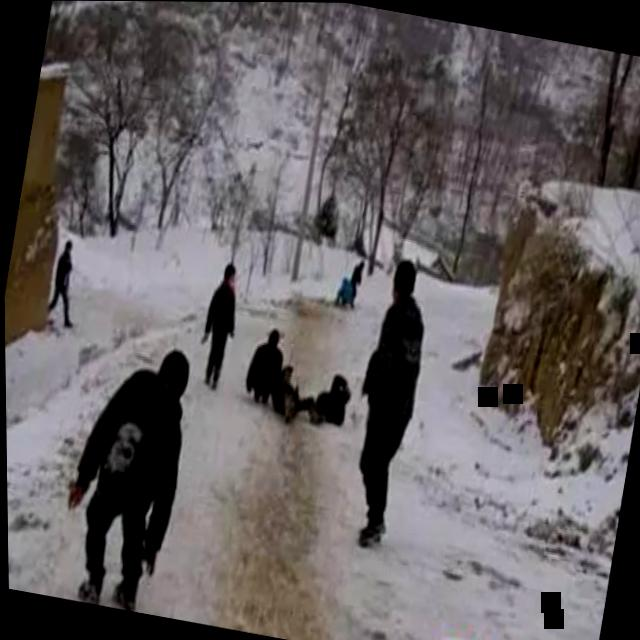Fall-Detected: (326, 243, 366, 307)
